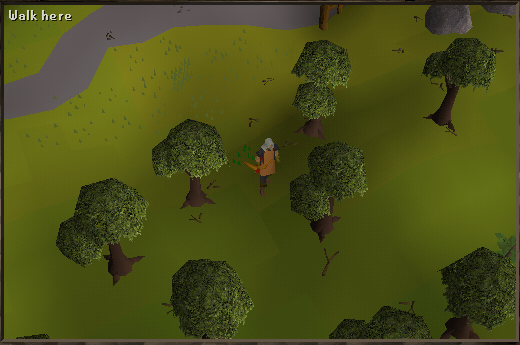Tree: (146, 116, 226, 214), (66, 181, 141, 279), (420, 35, 494, 133), (285, 40, 352, 133), (297, 146, 360, 238)
